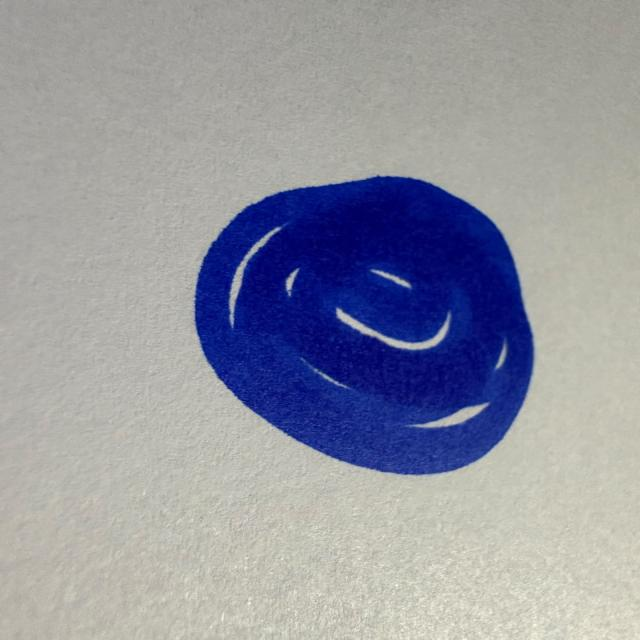Circle: (194, 166, 539, 483)
